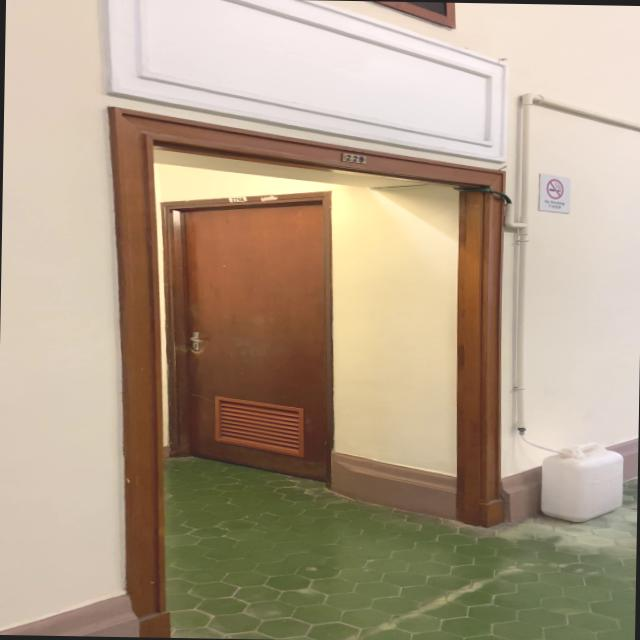room229: (338, 150, 368, 164)
